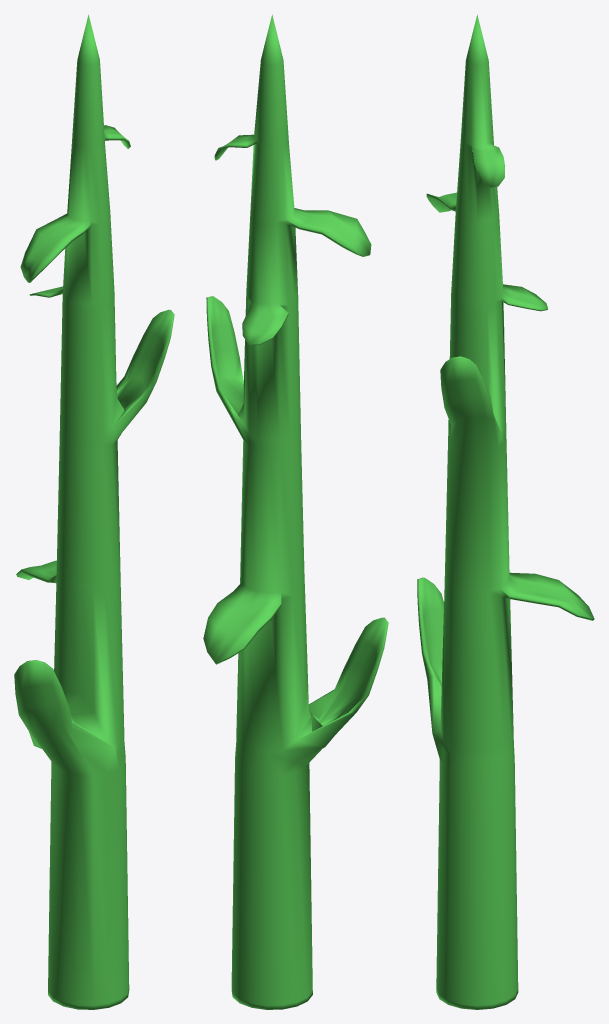
Rendered from Stage1.fbx.
The picture shows the model from 3 angles, left to right: view 1: azimuth 30°, elevation 25°; view 2: azimuth 150°, elevation 25°; view 3: azimuth 270°, elevation 25°; orthographic projection.
Parts seen in each view (by area): view 1: Stage1; view 2: Stage1; view 3: Stage1.
Boxes of the visible parts, <box> form: Stage1: <box>14,14,174,1009</box>; Stage1: <box>203,14,388,1009</box>; Stage1: <box>417,14,594,1009</box>.
Size of the model in its own units: 7.14 by 39.95 by 6.56.
